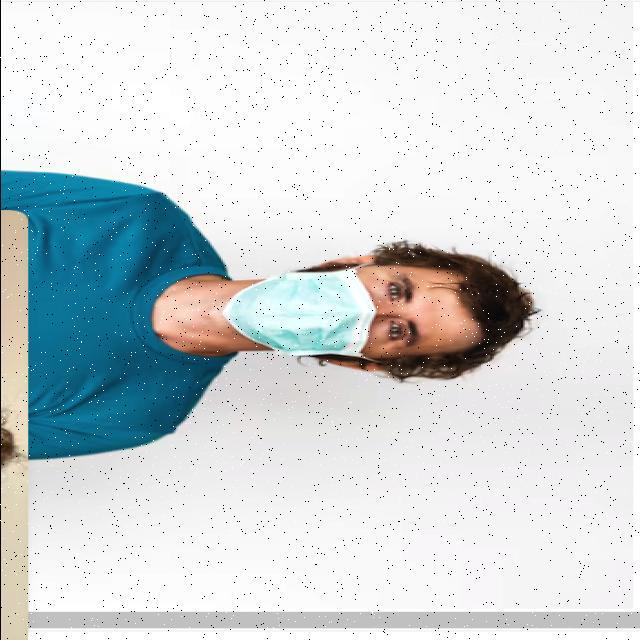face_mask: (238, 257, 490, 370)
